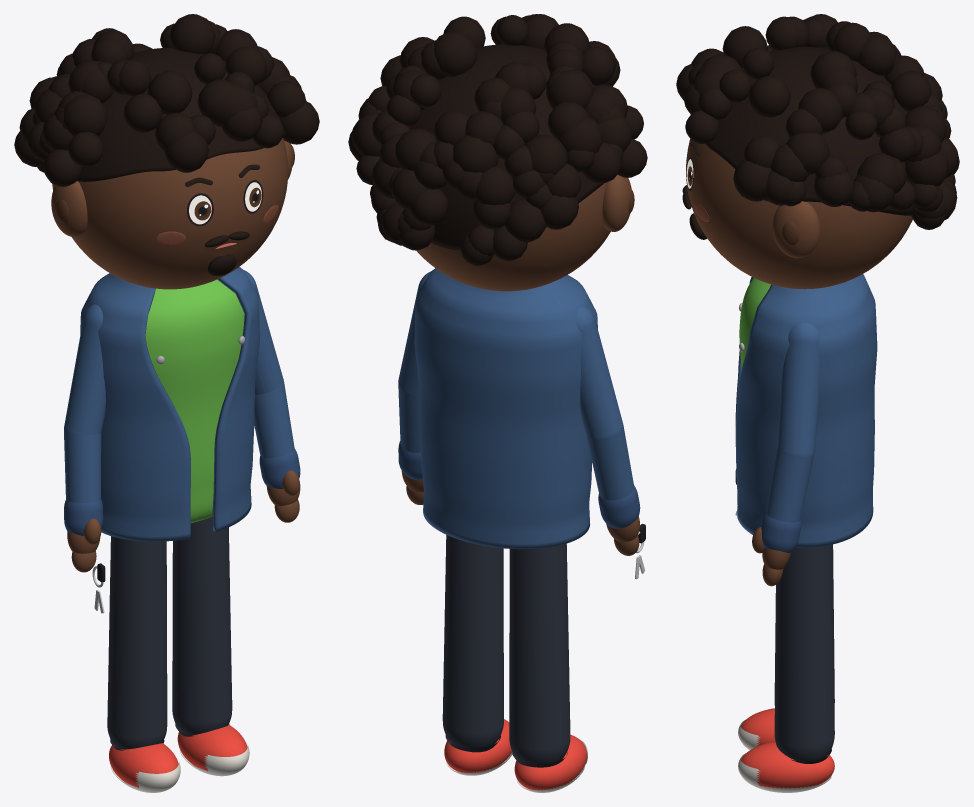
The model's file is beste_vriend_20.glb.
The picture shows the model from 3 angles, left to right: view 1: azimuth 30°, elevation 25°; view 2: azimuth 150°, elevation 25°; view 3: azimuth 270°, elevation 25°; orthographic projection. The views are drawn at different scales.
Visible parts, largest first — view 1: beste_vriend_20_jas, beste_vriend_20_hoofd, beste_vriend_20_romp, beste_vriend_20_been_R, beste_vriend_20_been_L, beste_vriend_20_haar, beste_vriend_20_bovenarm_R, beste_vriend_20_onderarm_R, beste_vriend_20_onderarm_L, beste_vriend_20_schoen_R, beste_vriend_20_schoen_L, beste_vriend_20_bovenarm_L (+28 smaller); view 2: beste_vriend_20_jas, beste_vriend_20_been_R, beste_vriend_20_been_L, beste_vriend_20_hoofd, beste_vriend_20_haar, beste_vriend_20_bovenarm_R, beste_vriend_20_onderarm_R, beste_vriend_20_schoen_R, beste_vriend_20_schoen_L, beste_vriend_20_krul60, beste_vriend_20_krul28, beste_vriend_20_oor_R (+46 smaller); view 3: beste_vriend_20_jas, beste_vriend_20_hoofd, beste_vriend_20_been_L, beste_vriend_20_haar, beste_vriend_20_bovenarm_L, beste_vriend_20_schoen_L, beste_vriend_20_onderarm_L, beste_vriend_20_oor_L, beste_vriend_20_krul55, beste_vriend_20_krul0, beste_vriend_20_krul26, beste_vriend_20_krul83 (+32 smaller).
Boxes of the visible parts, x1,y1,x2,y2 form: beste_vriend_20_jas: (80, 267, 259, 541); beste_vriend_20_hoofd: (52, 138, 288, 289); beste_vriend_20_romp: (145, 279, 244, 522); beste_vriend_20_been_R: (107, 536, 167, 749); beste_vriend_20_been_L: (172, 516, 232, 735); beste_vriend_20_haar: (76, 47, 286, 181); beste_vriend_20_bovenarm_R: (64, 304, 105, 435); beste_vriend_20_onderarm_R: (64, 428, 101, 502); beste_vriend_20_onderarm_L: (254, 384, 294, 458); beste_vriend_20_schoen_R: (109, 743, 178, 787); beste_vriend_20_schoen_L: (177, 725, 247, 771); beste_vriend_20_bovenarm_L: (244, 270, 283, 394); beste_vriend_20_jas: (414, 268, 597, 549); beste_vriend_20_been_R: (509, 543, 570, 764); beste_vriend_20_been_L: (442, 535, 503, 748); beste_vriend_20_hoofd: (416, 182, 610, 291); beste_vriend_20_haar: (410, 44, 603, 250); beste_vriend_20_bovenarm_R: (575, 306, 622, 440); beste_vriend_20_onderarm_R: (586, 427, 634, 500); beste_vriend_20_schoen_R: (514, 734, 586, 790); beste_vriend_20_schoen_L: (444, 719, 512, 773); beste_vriend_20_krul60: (434, 31, 477, 76); beste_vriend_20_krul28: (546, 69, 593, 109); beste_vriend_20_oor_R: (602, 174, 631, 231); beste_vriend_20_jas: (735, 274, 877, 547); beste_vriend_20_hoofd: (686, 139, 912, 289); beste_vriend_20_been_L: (774, 544, 834, 761); beste_vriend_20_haar: (706, 46, 912, 215); beste_vriend_20_bovenarm_L: (777, 322, 820, 457); beste_vriend_20_schoen_L: (741, 742, 834, 788); beste_vriend_20_onderarm_L: (766, 448, 813, 522); beste_vriend_20_oor_L: (772, 201, 820, 258); beste_vriend_20_krul55: (748, 75, 790, 117); beste_vriend_20_krul0: (798, 88, 842, 133); beste_vriend_20_krul26: (891, 71, 931, 111); beste_vriend_20_krul83: (786, 133, 829, 174).
Bounding box in the file's own units: 0.6997 × 1.91 × 0.6658.
